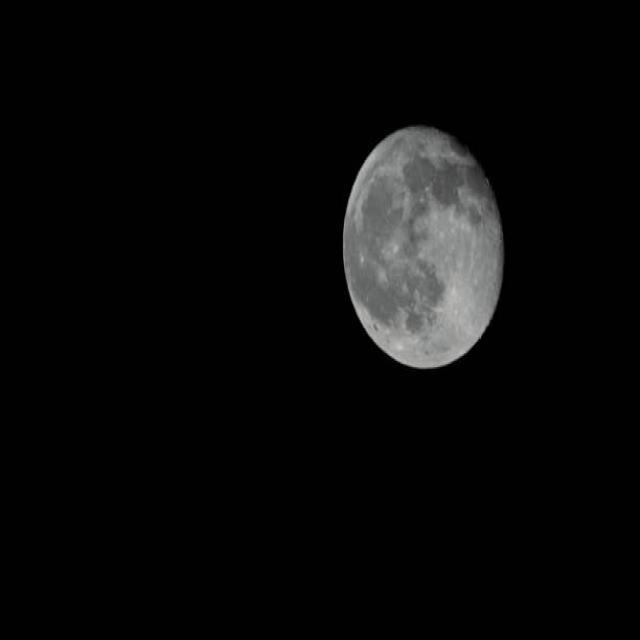moon: (342, 128, 504, 368)
